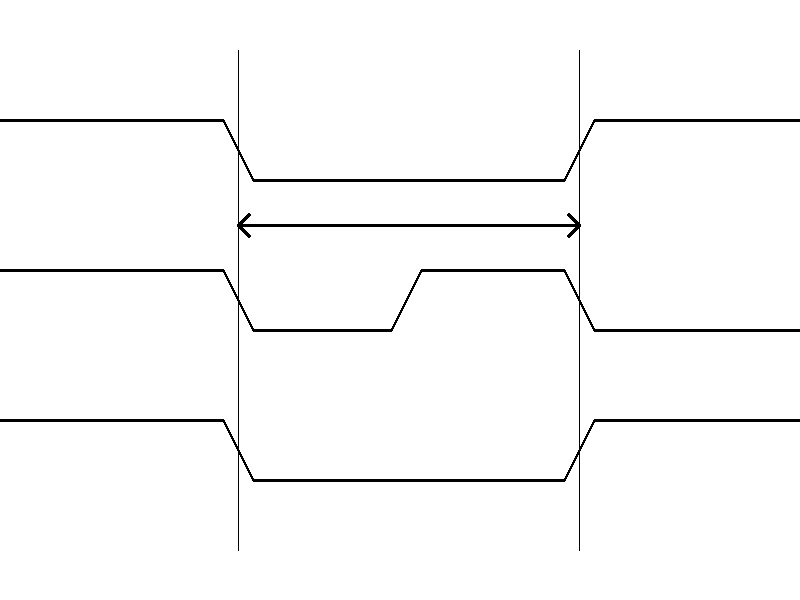double_arrow: (238, 210, 579, 240)
